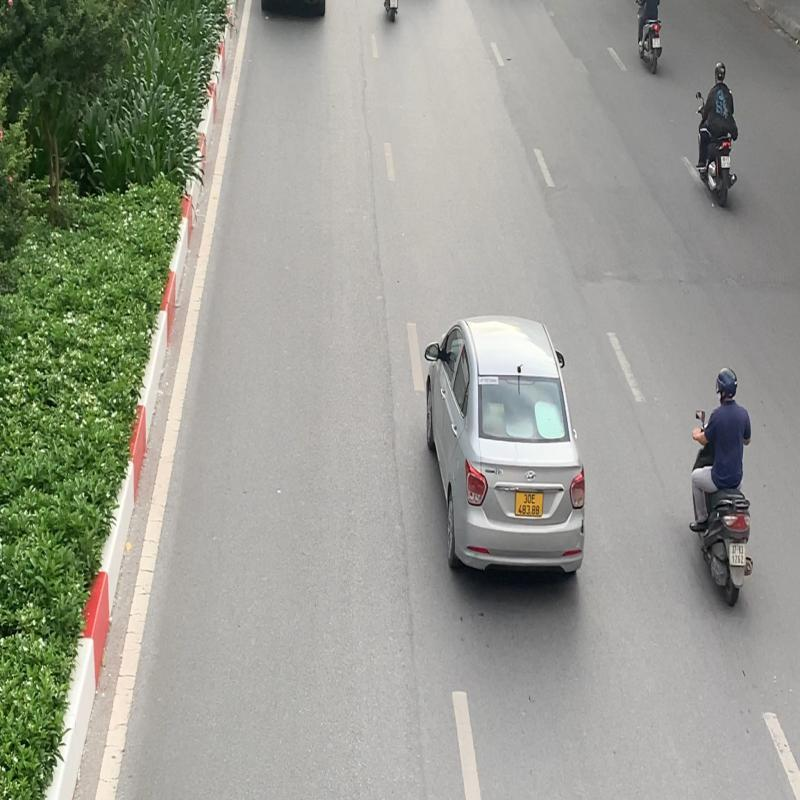helmet: (715, 368, 738, 399)
licenseplate: (728, 542, 748, 566)
motorcyclist: (685, 361, 756, 614)
